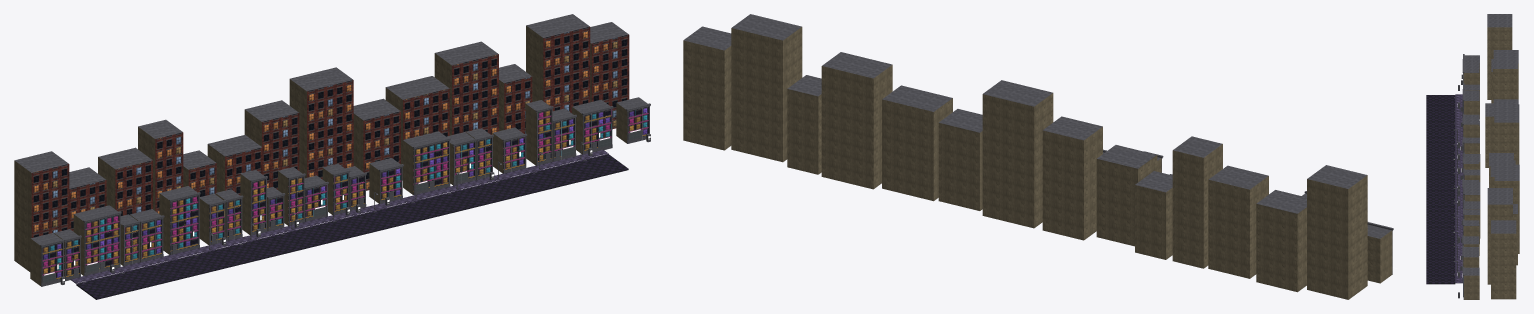
The model's file is stage2.glb.
3 views of the same model, side by side, from view 1: azimuth 30°, elevation 25°; view 2: azimuth 150°, elevation 25°; view 3: azimuth 270°, elevation 25° (orthographic). The views are drawn at different scales.
Parts seen in each view (by area): view 1: Scenery; view 2: Scenery; view 3: Scenery.
Part boxes in pixels (x1,y1,x2,y2): Scenery: [14, 14, 653, 299]; Scenery: [683, 14, 1396, 299]; Scenery: [1426, 14, 1519, 299].
Size of the model in its own units: 162 by 28.4 by 29.73.
Materials: 15 (9 with a texture image).
